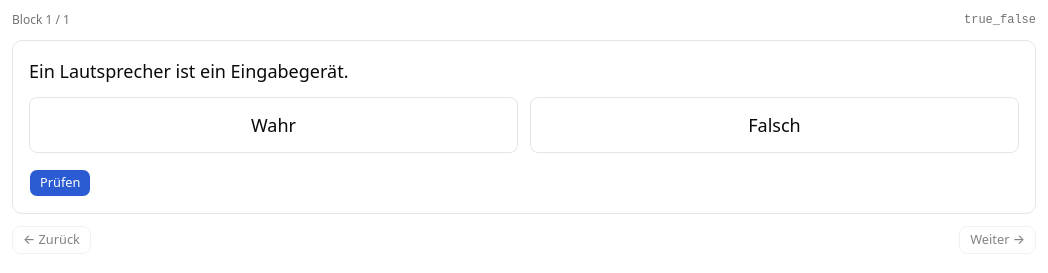
Test case: LivePreview › wertet eine richtige Antwort als 100 % (richtig) — true_false
The width and height of the screenshot is (1048, 273).
Click the button "Falsch". click: (774, 125)
box: [530,97,1019,153]
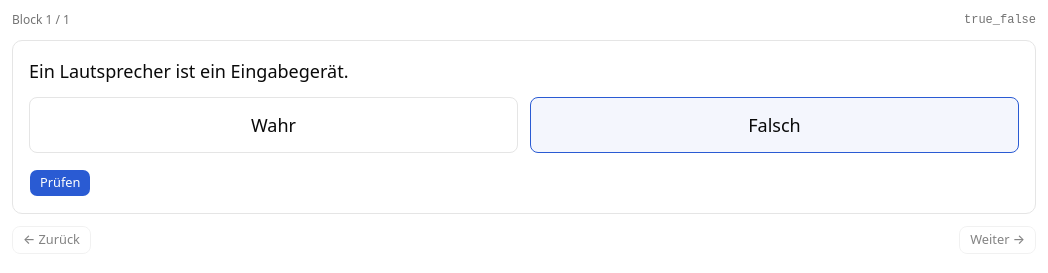
Click the button "Prüfen". click: (60, 183)
box: [29,169,92,197]
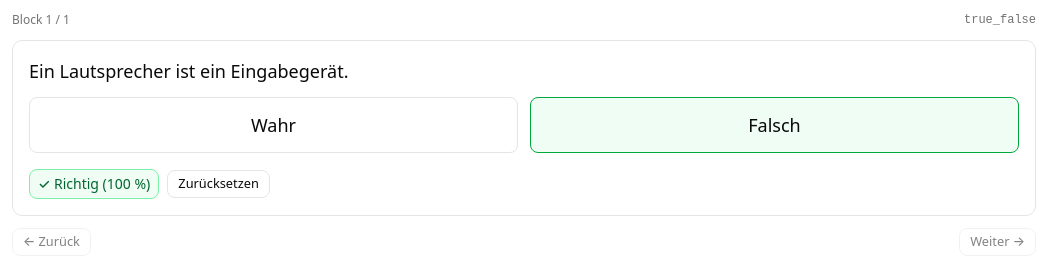
Now the text "✓ Richtig (100 %)" is shown, box [29,169,159,199]
